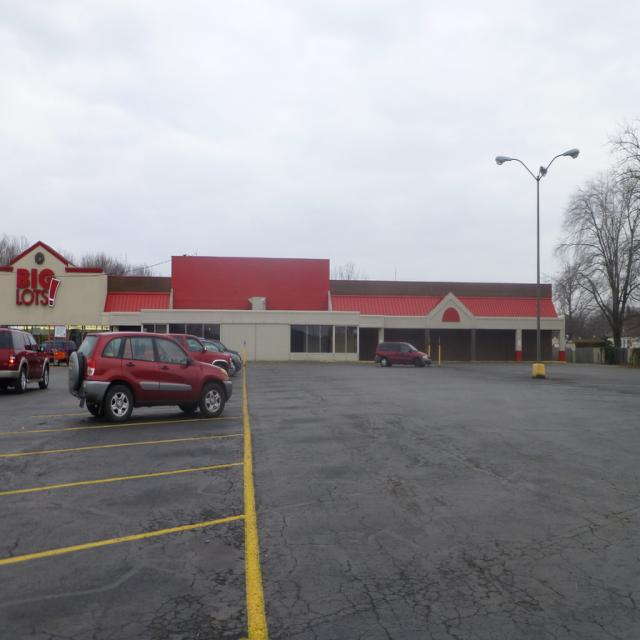car: (375, 338, 426, 366)
